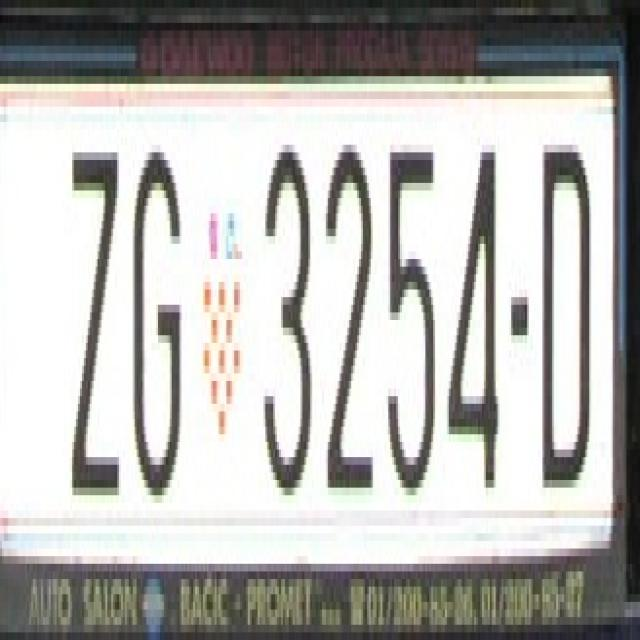2: (324, 145, 375, 488)
3: (258, 137, 316, 495)
4: (445, 106, 503, 488)
5: (386, 122, 437, 488)
D: (537, 129, 591, 503)
G: (133, 160, 185, 495)
Z: (64, 145, 123, 488)
